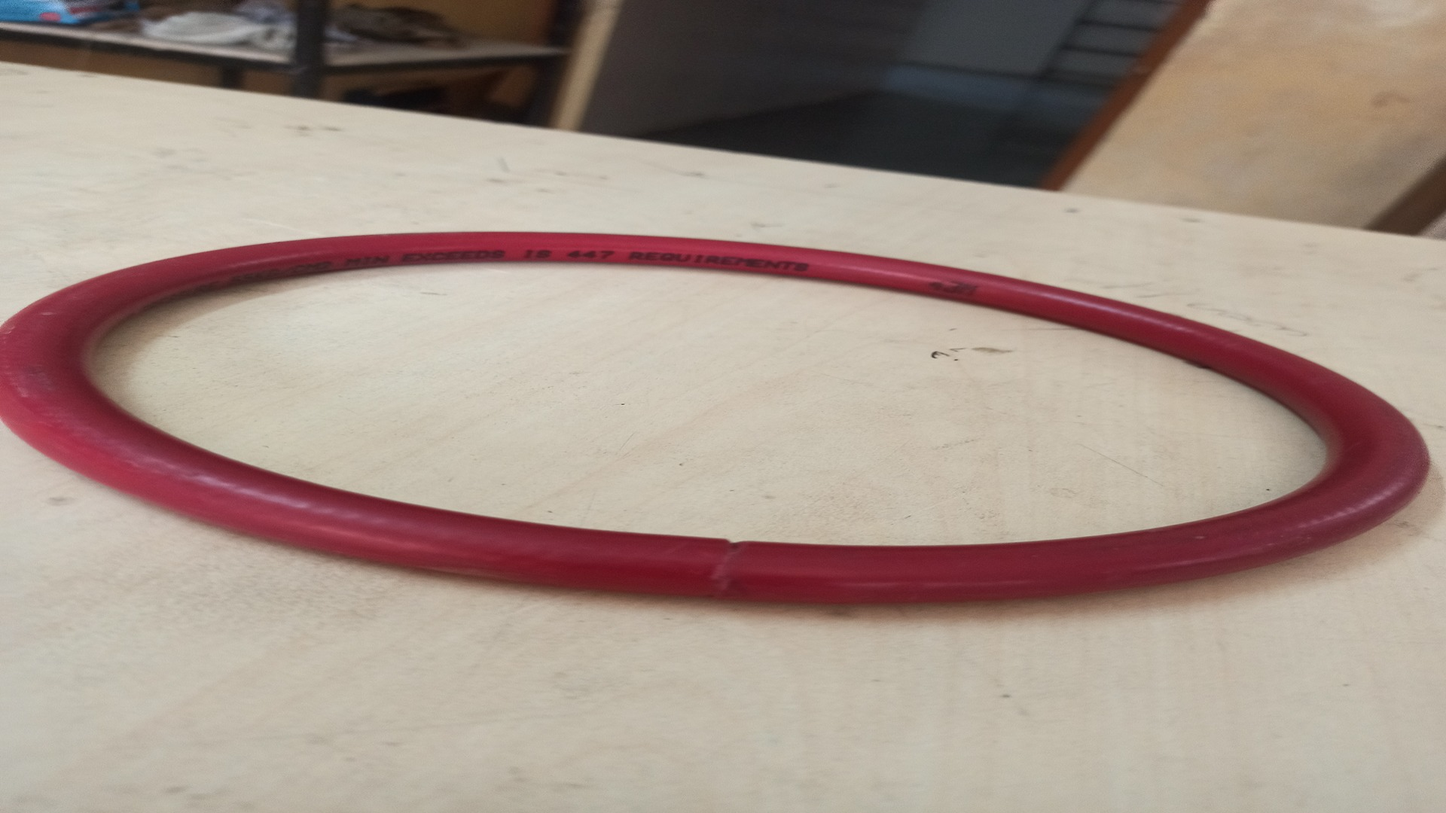Red ring: (5, 232, 1427, 602)
